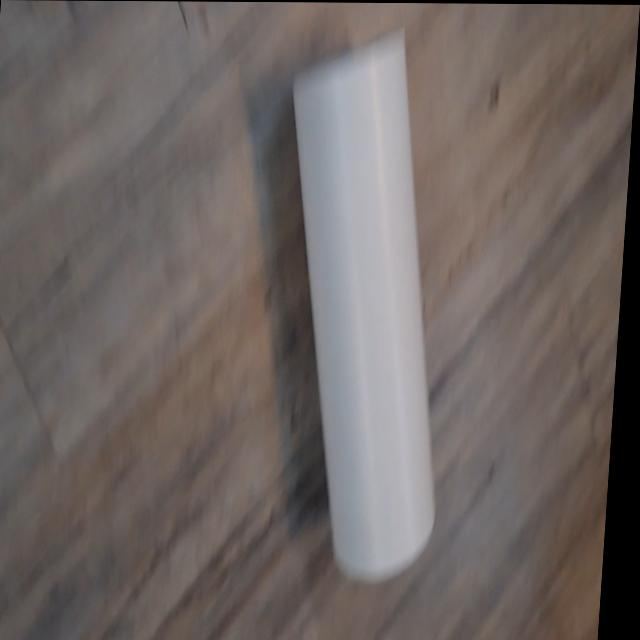CORAL: (238, 38, 469, 590)
